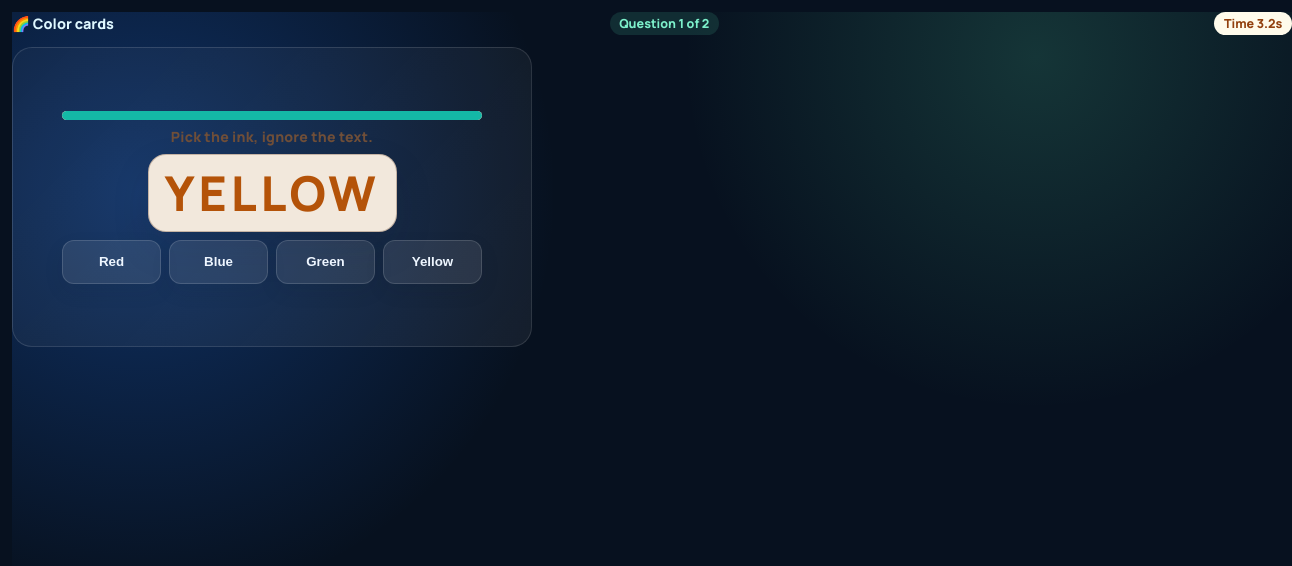
Scenario: ColorInterferenceTask EN copy (t_42978412 + note c: estímulo en EN) › renders header, timer, prompt and EN stimulus word without announcing the condition
Check: the text "🌈 Color cards" is shown, box [12, 14, 114, 33]
Check: the text "Question 1 of 2" is shown, box [610, 12, 719, 35]
Click the button "Yellow" at {"x": 432, "y": 262}, box [383, 240, 482, 284]
Wait 25 ms
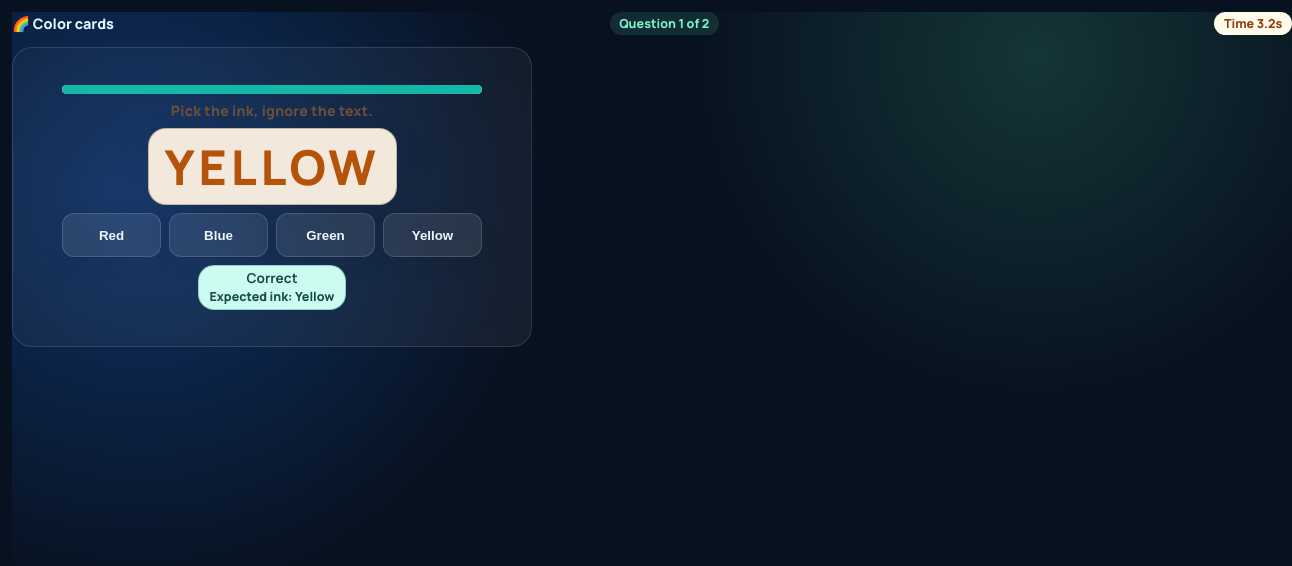
Check: the text "Correct" is shown, box [246, 269, 298, 287]
